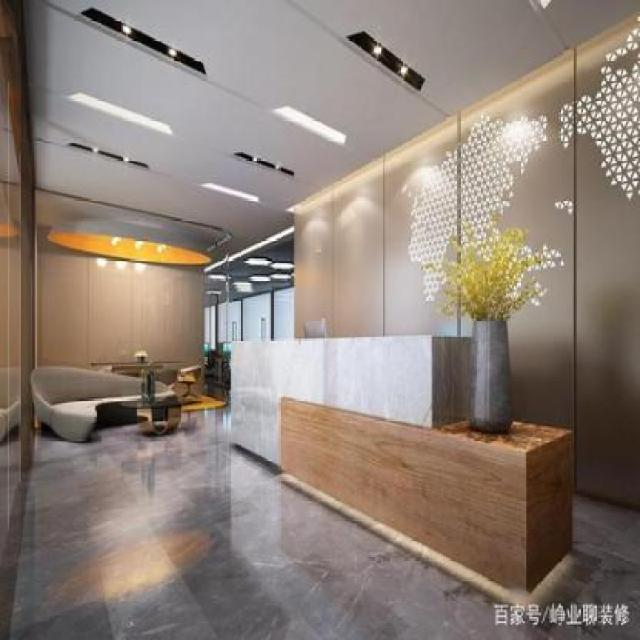frontdesk: (215, 324, 576, 600)
